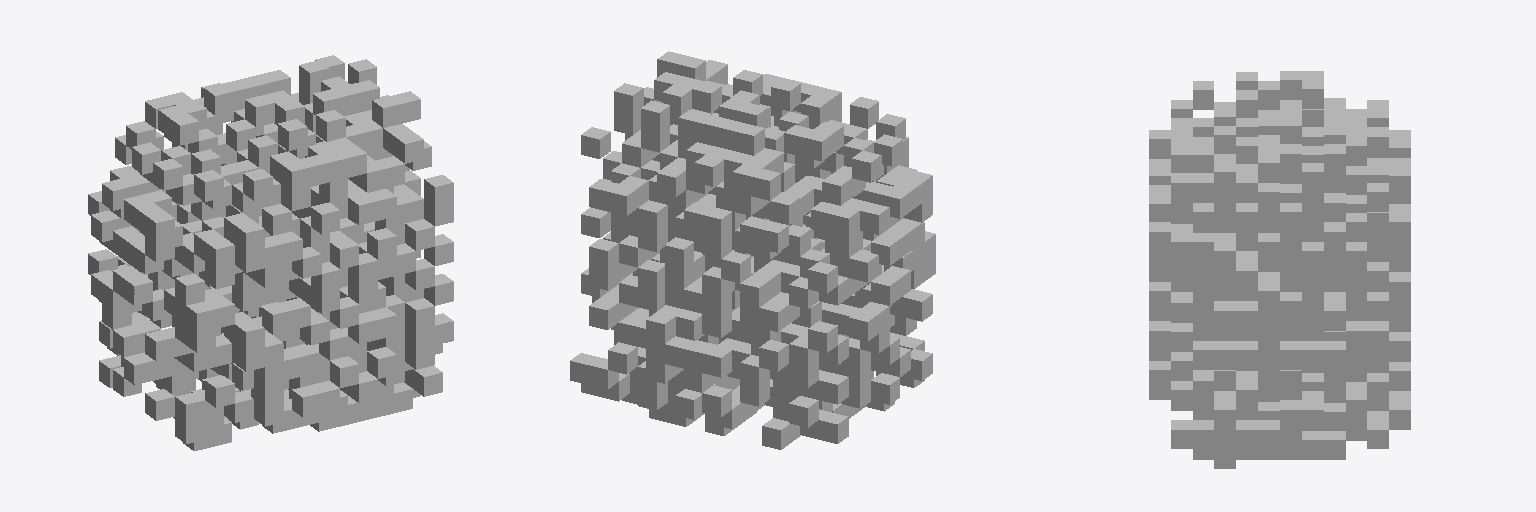
The model's file is 3D Voxel Park-28.obj.
3 renders of one model, left to right at view 1: azimuth 30°, elevation 25°; view 2: azimuth 150°, elevation 25°; view 3: azimuth 270°, elevation 25°, orthographic.
Visible parts, largest first — view 1: object 1; view 2: object 1; view 3: object 1.
Boxes of the visible parts, x1,y1,x2,y2 form: object 1: [88, 55, 453, 450]; object 1: [570, 51, 935, 449]; object 1: [1149, 71, 1410, 468].
Size of the model in its own units: 1.4 by 1.5 by 1.2.